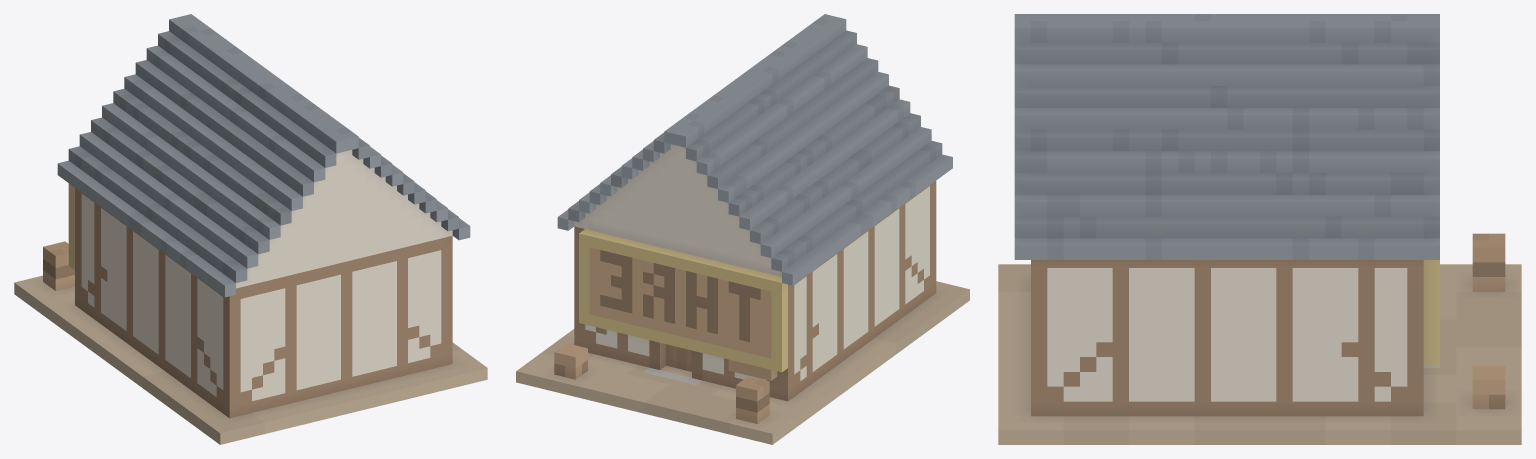
The model's file is thread_spinner.glb.
3 renders of one model, left to right at view 1: azimuth 30°, elevation 25°; view 2: azimuth 150°, elevation 25°; view 3: azimuth 270°, elevation 25°, orthographic. The views are drawn at different scales.
Parts seen in each view (by area): view 1: thread_spinner; view 2: thread_spinner; view 3: thread_spinner.
Part boxes in pixels (bbox=[...]): thread_spinner: bbox=[14, 14, 487, 444]; thread_spinner: bbox=[516, 14, 969, 444]; thread_spinner: bbox=[998, 14, 1521, 444].
Bounding box in the file's own units: 3 × 2.88 × 4.
